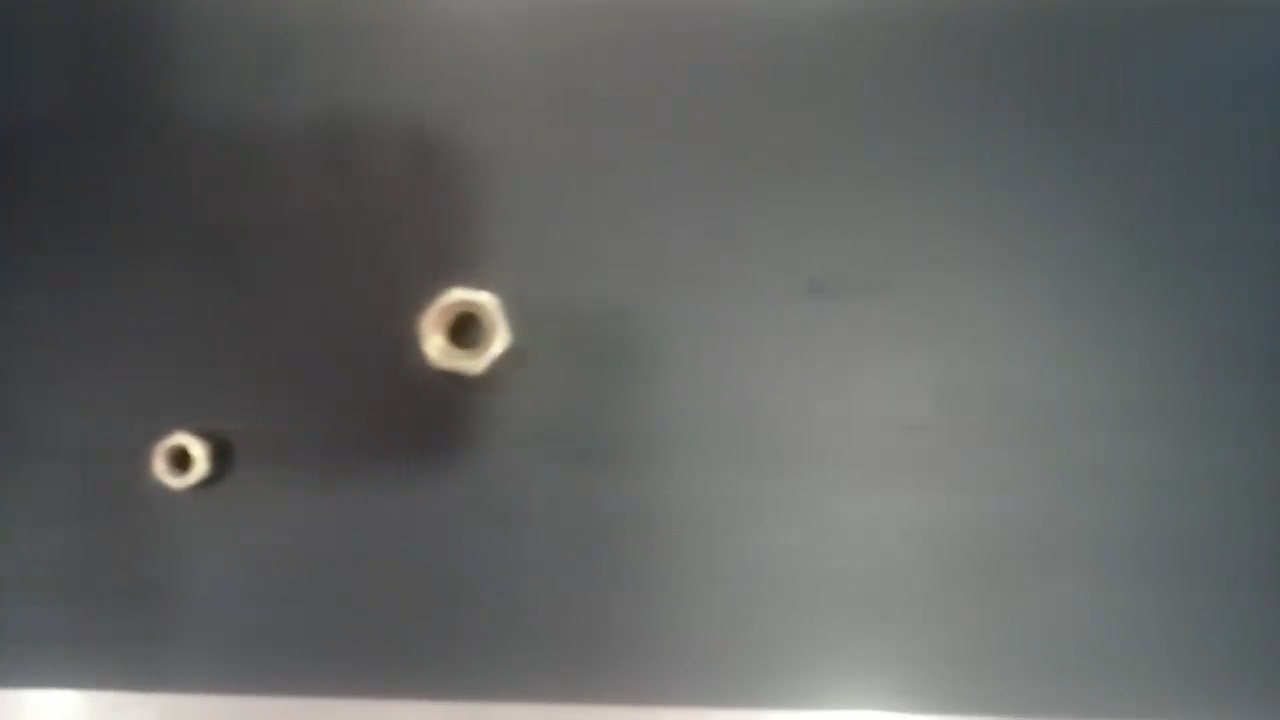Bolt: (413, 284, 513, 380), (149, 427, 216, 492)
